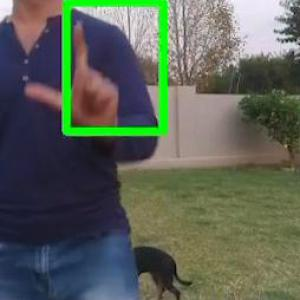land_hand: (24, 14, 126, 132)
